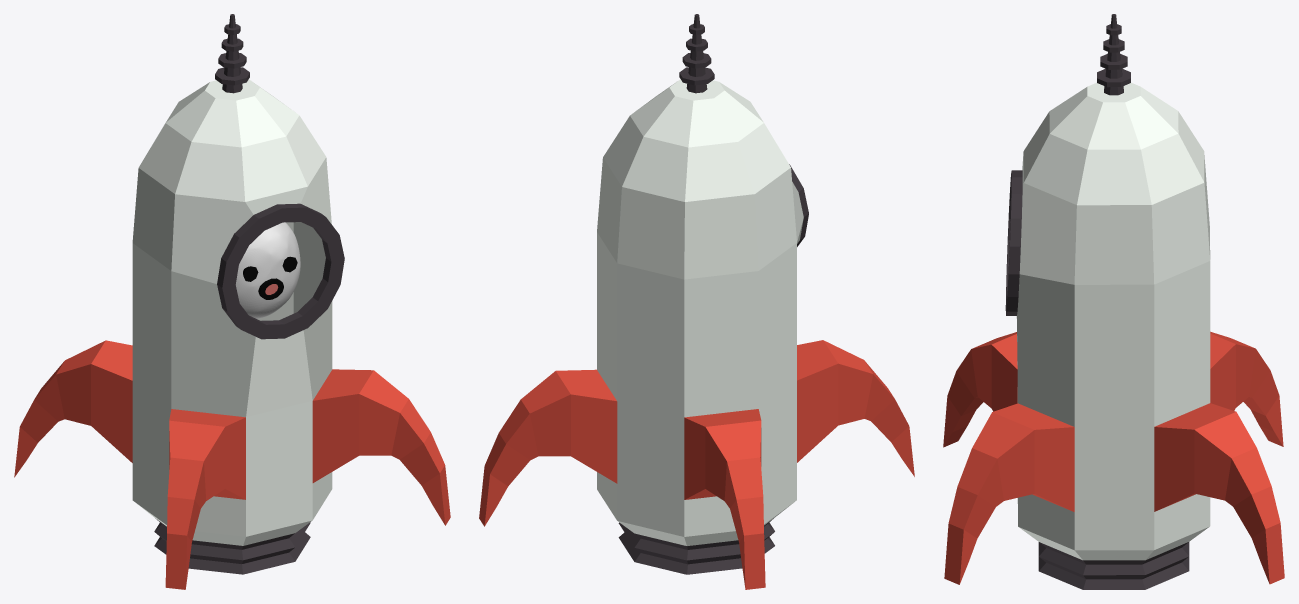
Rendered from JAM1_Rocket_GREEN.fbx.
The picture shows the model from 3 angles, left to right: view 1: azimuth 30°, elevation 25°; view 2: azimuth 150°, elevation 25°; view 3: azimuth 270°, elevation 25°; orthographic projection. The views are drawn at different scales.
Parts seen in each view (by area): view 1: ALL_IN-ONE; view 2: ALL_IN-ONE; view 3: ALL_IN-ONE.
Part boxes in pixels (x1=…): ALL_IN-ONE: x1=14, y1=14, x2=450, y2=589; ALL_IN-ONE: x1=479, y1=14, x2=914, y2=589; ALL_IN-ONE: x1=943, y1=14, x2=1284, y2=589.
Bounding box in the file's own units: 328 × 576 × 328.
